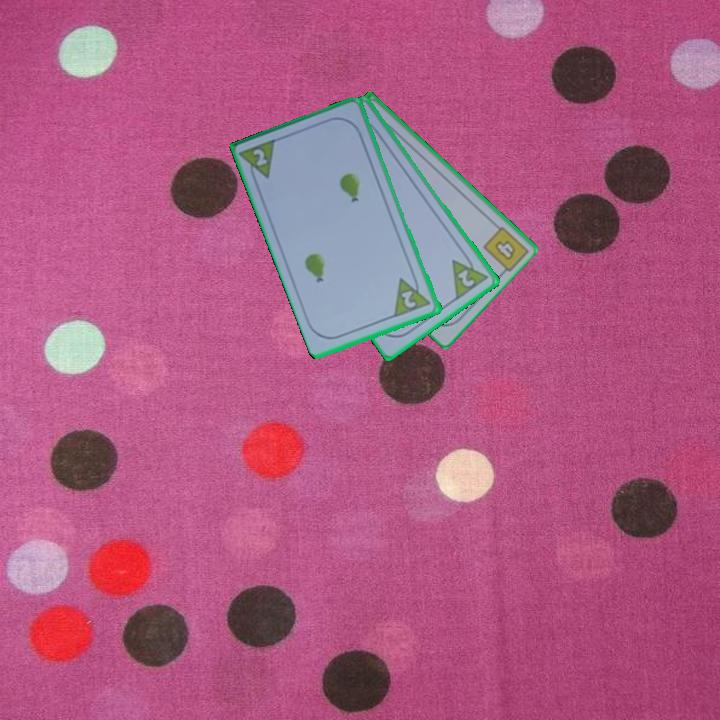2p: (448, 249, 492, 303), (391, 270, 434, 320), (249, 145, 271, 169)
4b: (491, 236, 519, 263)
